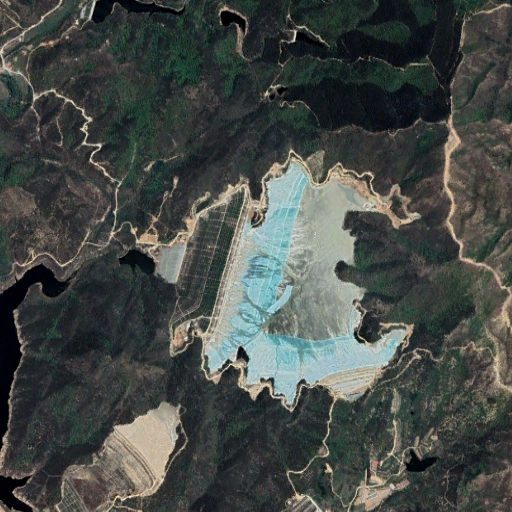tp: (157, 156, 412, 403), (56, 406, 185, 512)
